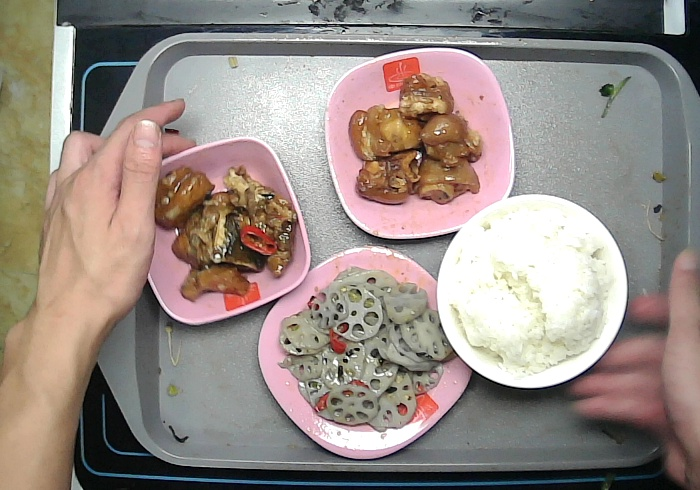SHKJ-Fan_Wan: (436, 193, 629, 389)
SHKJ-Fen_Se_Cai_Die: (326, 47, 517, 245)
SHKJ-Fen_Se_Si_Fang_Cai_Die: (257, 245, 474, 462)
SHKJ-Fen_Se_Xiao_Fang_Die: (128, 137, 312, 324)
